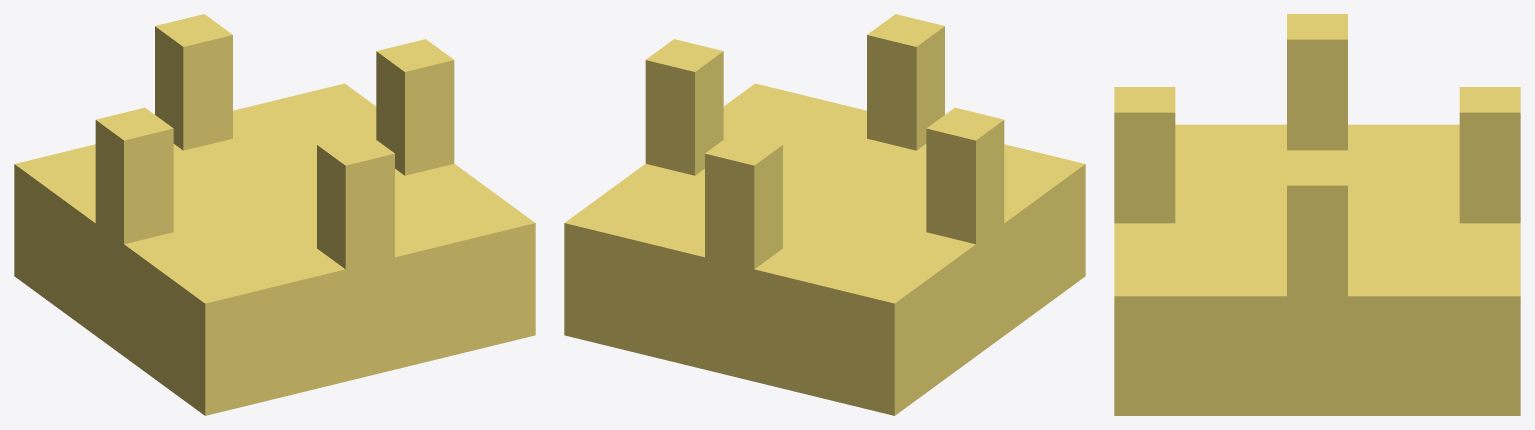
The model's file is hat_crown.glb.
3 renders of one model, left to right at view 1: azimuth 30°, elevation 25°; view 2: azimuth 150°, elevation 25°; view 3: azimuth 270°, elevation 25°, orthographic. The views are drawn at different scales.
Bounding box in the file's own units: 0.8 × 0.5 × 0.8.
